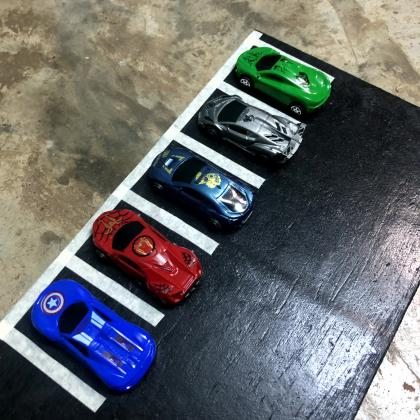Car: (31, 279, 156, 392), (92, 209, 202, 305), (150, 146, 256, 232), (198, 94, 308, 167), (236, 46, 332, 116)
